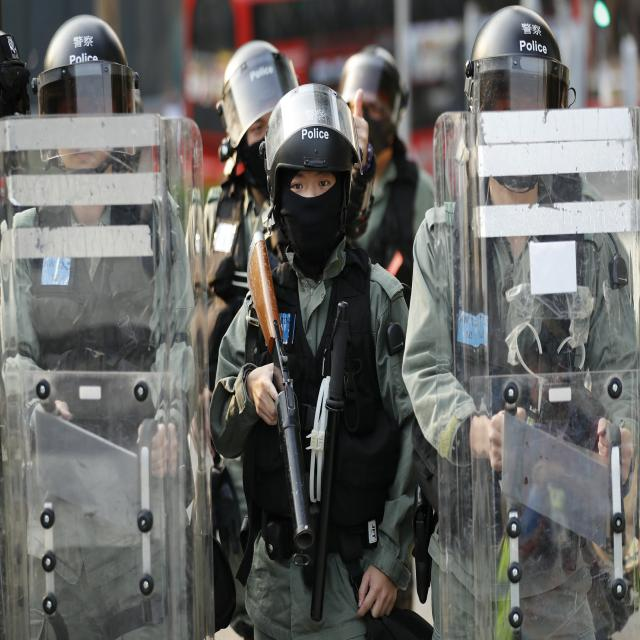police: (404, 0, 640, 640), (215, 27, 415, 640), (2, 0, 191, 640)
